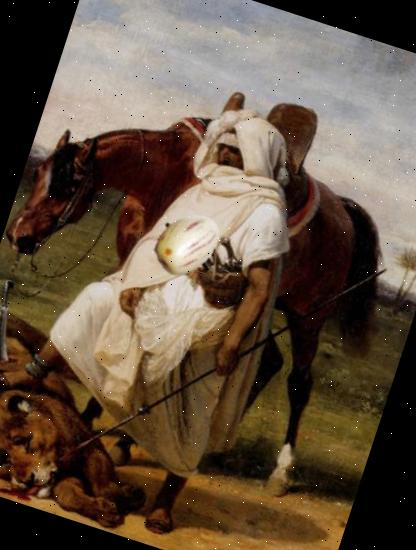Pepino: (140, 200, 230, 288)
